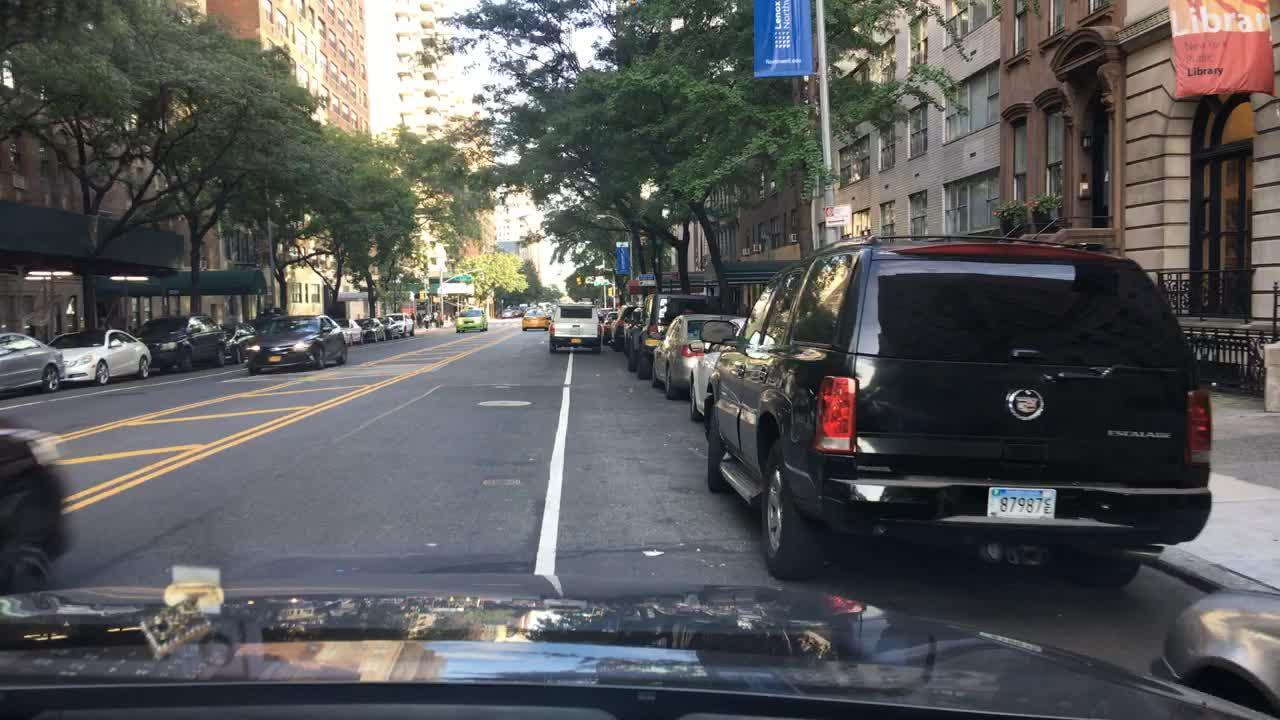cadillac: (1012, 390, 1043, 420)
